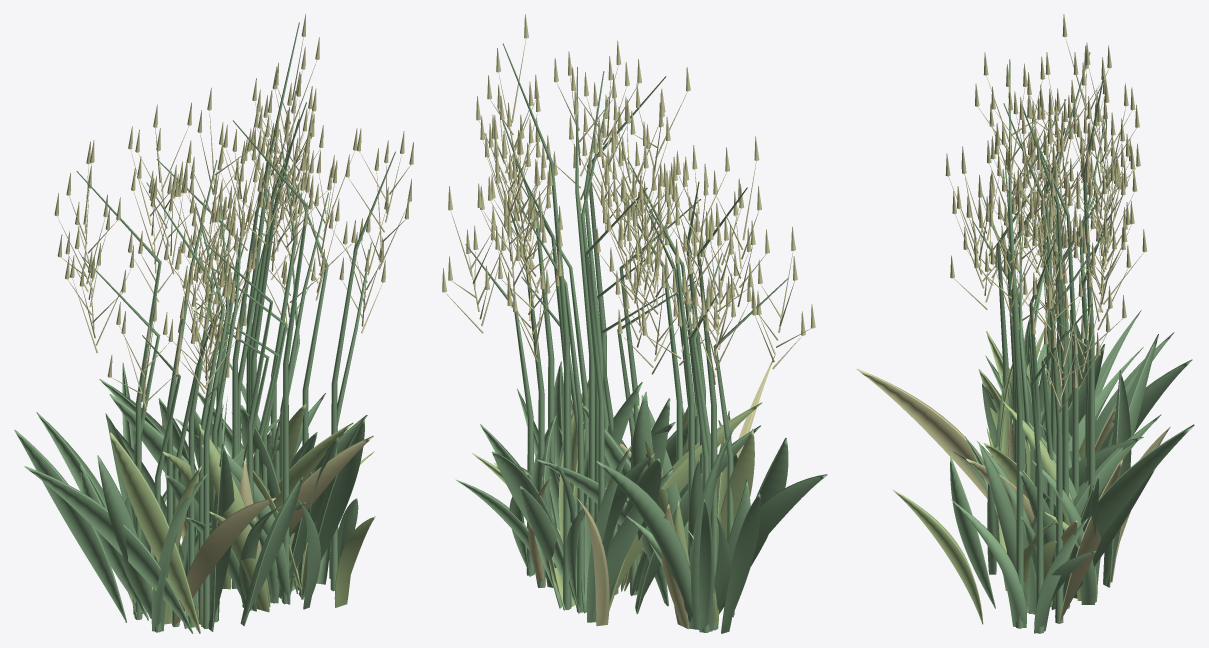
3 renders of one model, left to right at view 1: azimuth 30°, elevation 25°; view 2: azimuth 150°, elevation 25°; view 3: azimuth 270°, elevation 25°, orthographic. The views are drawn at different scales.
Parts seen in each view (by area): view 1: sedge_river; view 2: sedge_river; view 3: sedge_river.
Boxes of the visible parts, box(x1,y1,x2,y2) form: sedge_river: box(14, 14, 413, 633); sedge_river: box(442, 14, 827, 633); sedge_river: box(856, 14, 1194, 633).
Size of the model in its own units: 1.22 by 1.77 by 0.9455.
